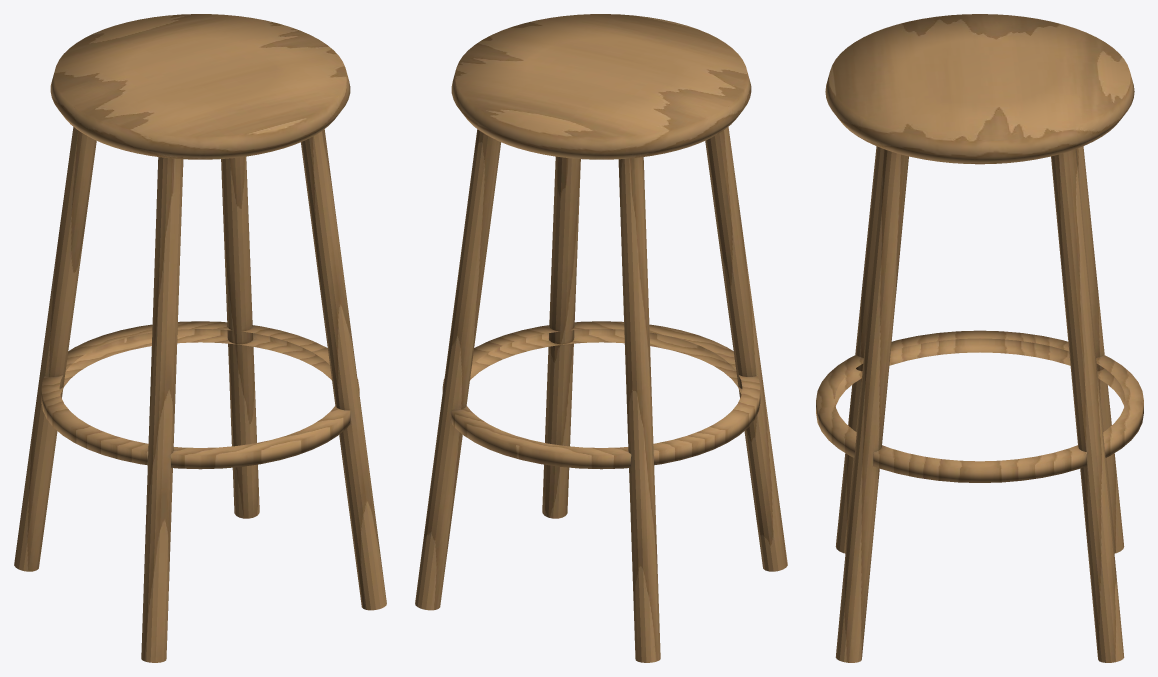
File: oak-wood.glb
3 views of the same model, side by side, from view 1: azimuth 30°, elevation 25°; view 2: azimuth 150°, elevation 25°; view 3: azimuth 270°, elevation 25° (orthographic). The views are drawn at different scales.
Visible parts, largest first — view 1: wood_v, wood_h; view 2: wood_v, wood_h; view 3: wood_v, wood_h.
Boxes of the visible parts, x1=… form: wood_v: x1=14, y1=127, x2=386, y2=662; wood_h: x1=50, y1=14, x2=350, y2=159; wood_v: x1=415, y1=127, x2=787, y2=662; wood_h: x1=451, y1=14, x2=751, y2=159; wood_v: x1=816, y1=146, x2=1143, y2=662; wood_h: x1=825, y1=14, x2=1134, y2=164.
Bounding box in the file's own units: 0.424 × 0.7621 × 0.424.
Materials: 2 (2 with a texture image).
